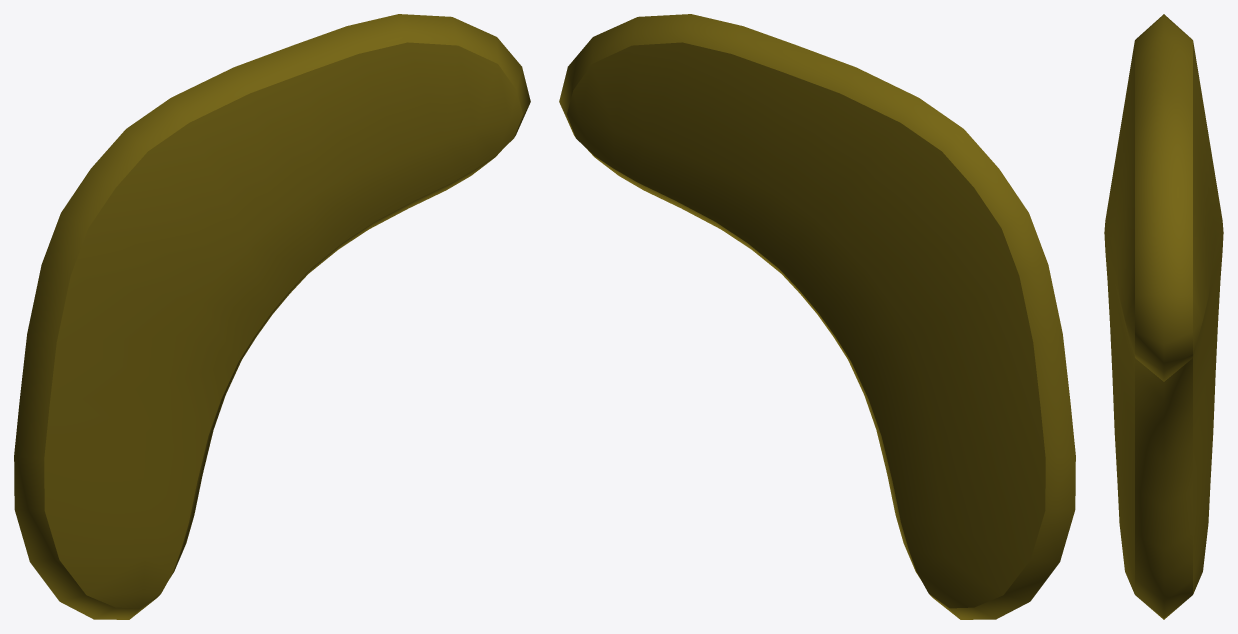
The model's file is Appearance.fbx.
3 views of the same model, side by side, from view 1: azimuth 30°, elevation 25°; view 2: azimuth 150°, elevation 25°; view 3: azimuth 270°, elevation 25° (orthographic). The views are drawn at different scales.
Parts seen in each view (by area): view 1: Boomerang; view 2: Boomerang; view 3: Boomerang.
Boxes of the visible parts, box(x1,y1,x2,y2) form: Boomerang: box(14, 14, 530, 619); Boomerang: box(559, 14, 1075, 619); Boomerang: box(1104, 14, 1223, 619).
Size of the model in its own units: 1.24 by 1.24 by 0.2021.
